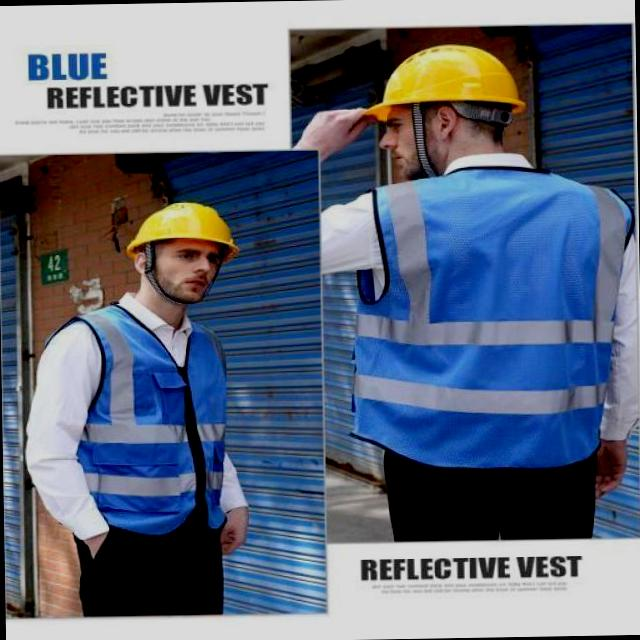vest: (359, 180, 618, 459), (83, 307, 228, 538)
